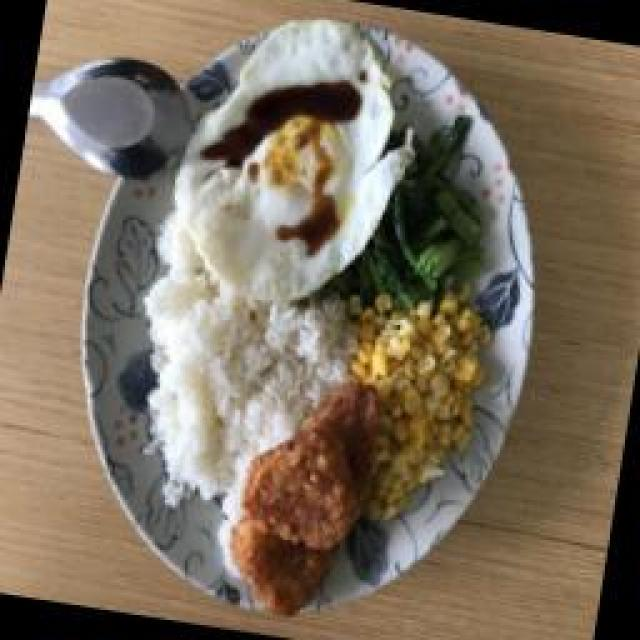fried_eggs: (165, 0, 415, 320)
rice: (123, 285, 326, 490)
triangle_hash_brown: (220, 368, 385, 628)
water_spinach: (338, 123, 491, 326)
